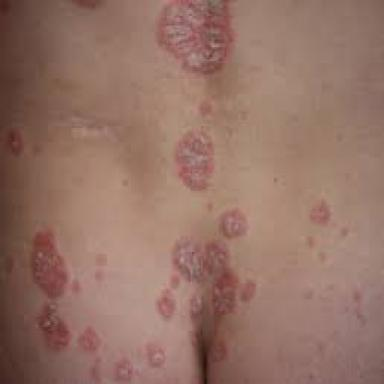Psoriasis: (158, 0, 235, 72), (173, 237, 239, 315), (31, 229, 71, 347), (175, 127, 214, 189), (220, 208, 248, 237), (311, 200, 332, 224), (157, 289, 175, 317), (8, 128, 24, 157), (147, 345, 167, 366), (79, 326, 97, 348), (95, 253, 107, 283), (71, 0, 101, 11), (241, 283, 256, 301), (119, 359, 132, 379), (199, 100, 214, 117), (191, 296, 203, 317), (214, 343, 227, 362), (190, 331, 202, 347), (5, 255, 14, 274), (71, 280, 81, 293), (171, 274, 179, 288)
